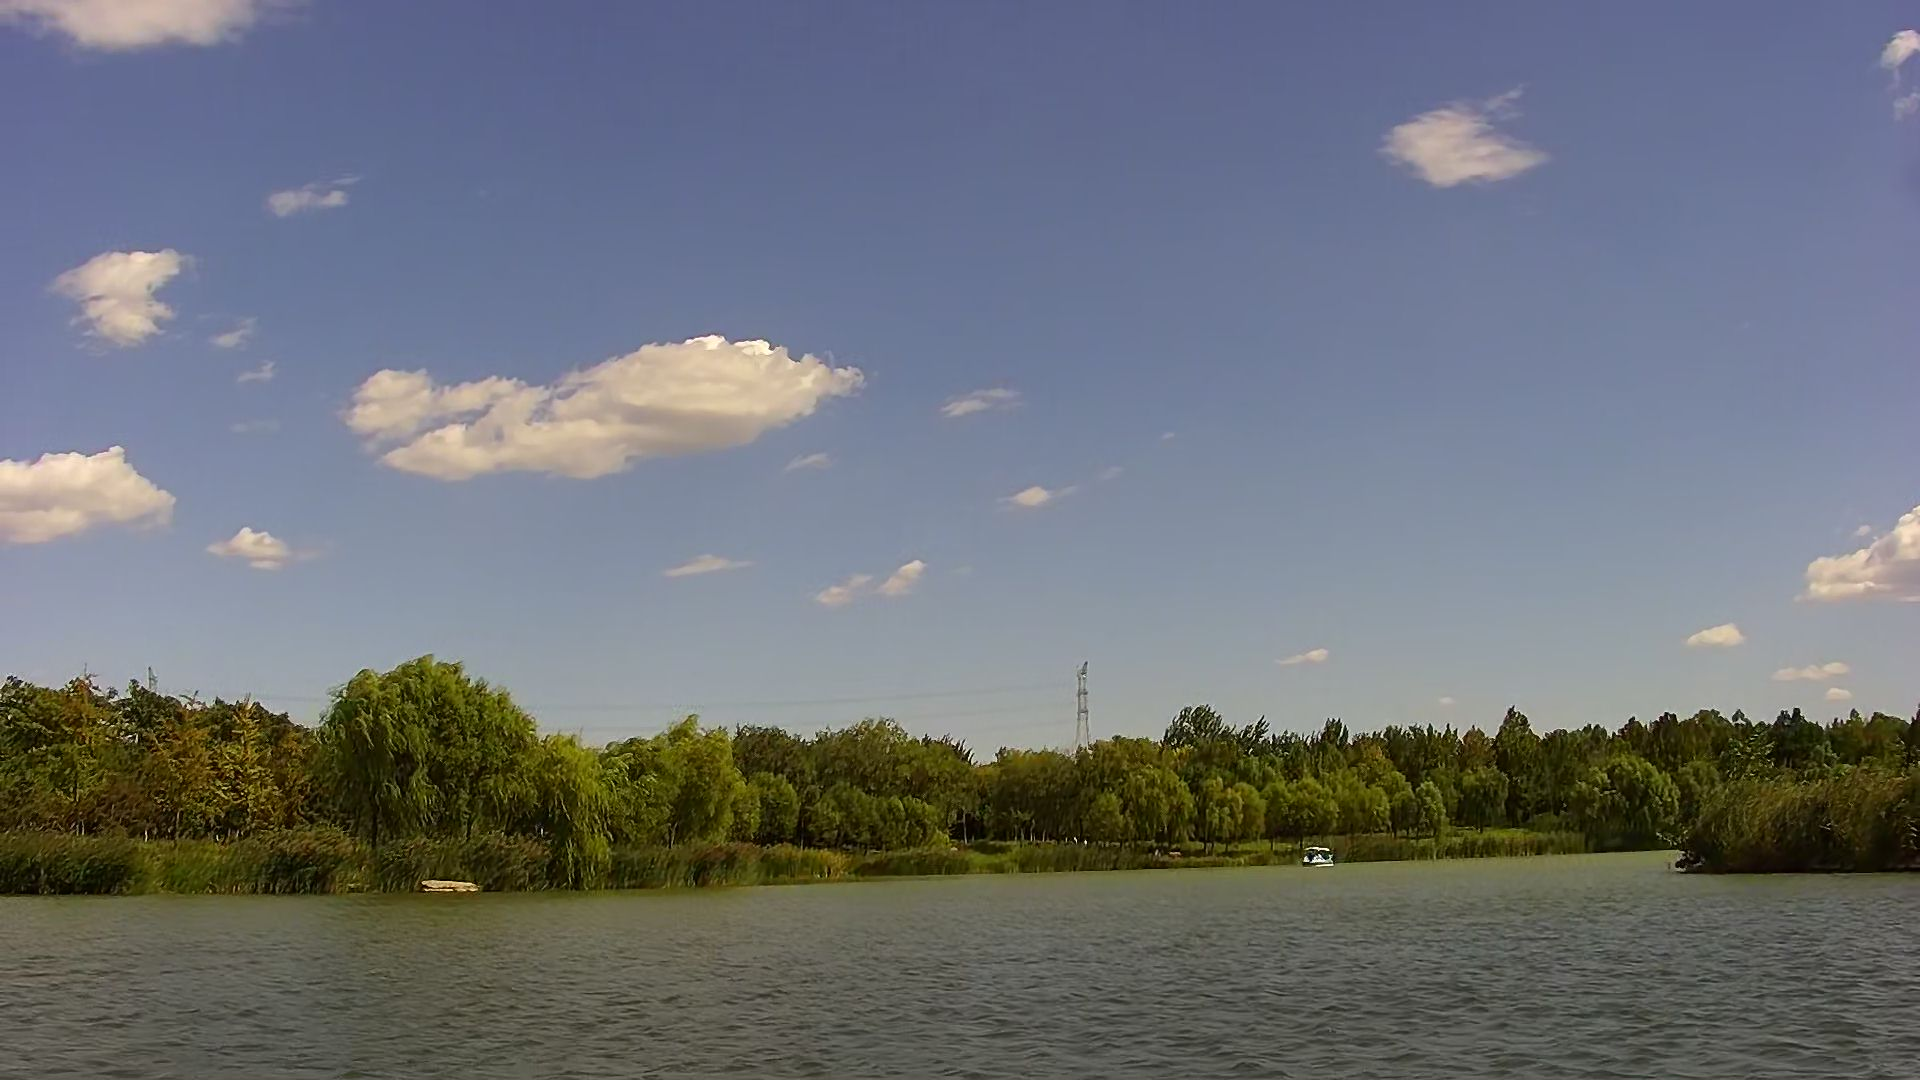boat: (1304, 841, 1342, 869)
